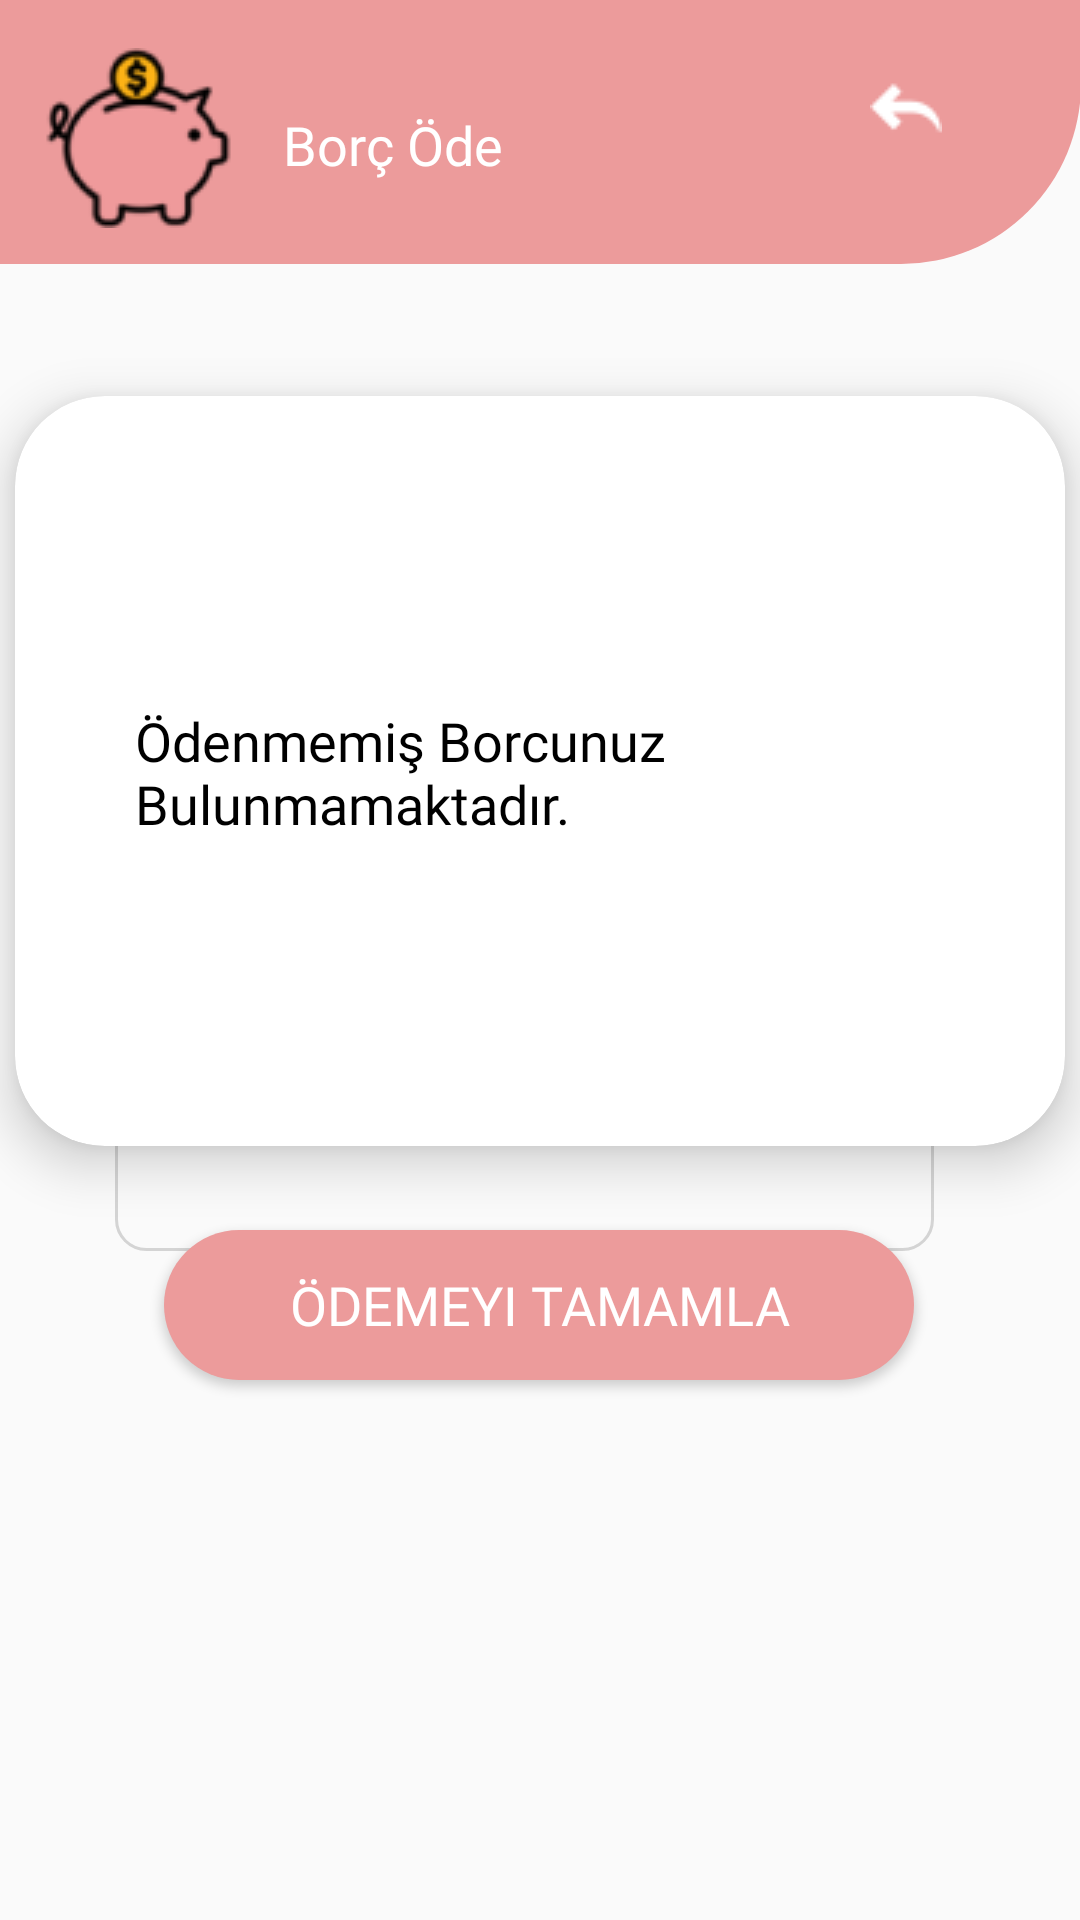

Icons on this 1080 × 1920 Android screen, each with the point to tap as (x,y):
previous: (906,108)
